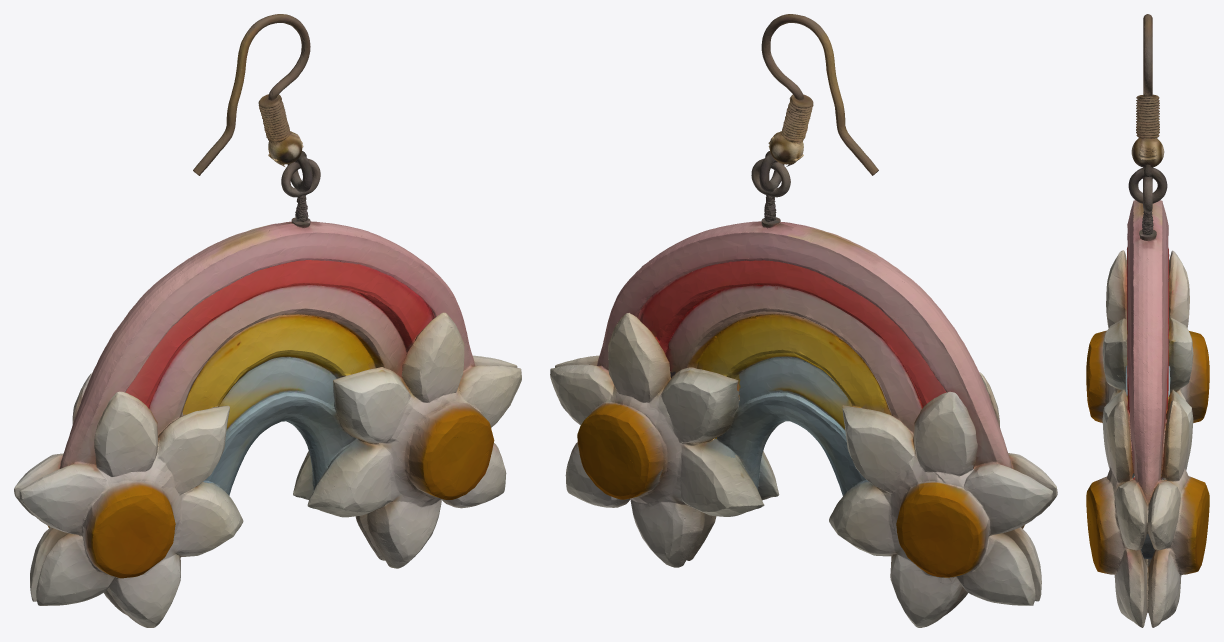
The model's file is producto-compressed.glb.
3 views of the same model, side by side, from view 1: azimuth 30°, elevation 25°; view 2: azimuth 150°, elevation 25°; view 3: azimuth 270°, elevation 25° (orthographic). The views are drawn at different scales.
Parts seen in each view (by area): view 1: tmpnc0j49k7.obj; view 2: tmpnc0j49k7.obj; view 3: tmpnc0j49k7.obj.
Part boxes in pixels (<box>): tmpnc0j49k7.obj: <box>14,14,521,627</box>; tmpnc0j49k7.obj: <box>550,14,1057,627</box>; tmpnc0j49k7.obj: <box>1086,14,1209,627</box>.
Size of the model in its own units: 1.34 by 1.47 by 0.3011.
1 material, 1 textured.
